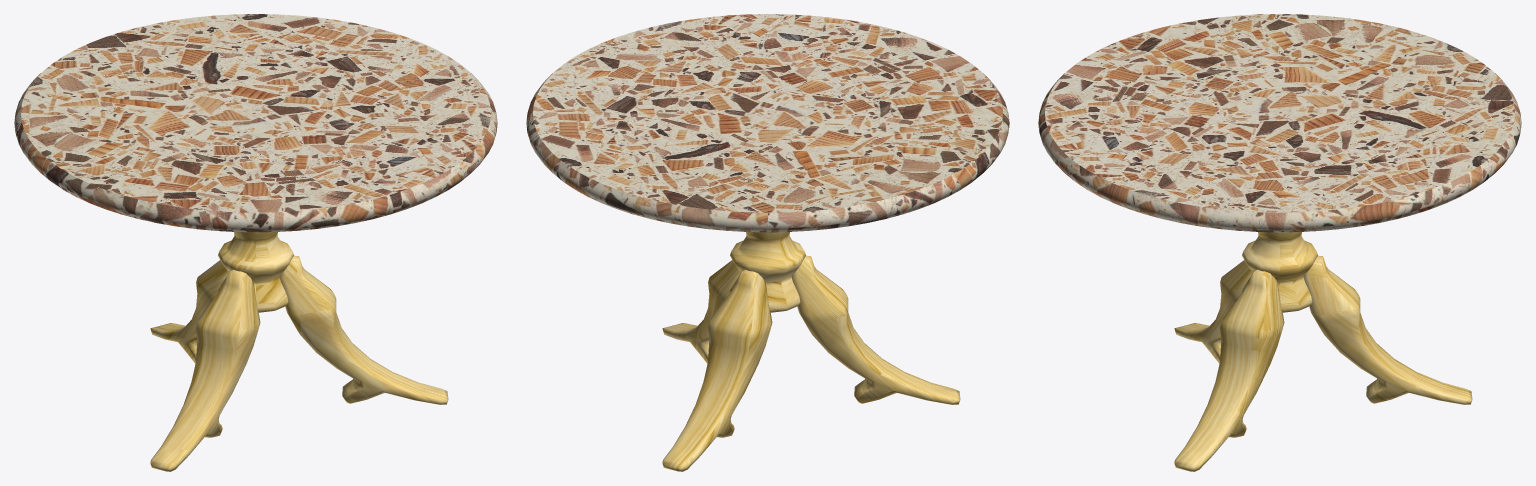
Rendered from wooden-coffe-table.gltf.
The picture shows the model from 3 angles, left to right: view 1: azimuth 30°, elevation 25°; view 2: azimuth 150°, elevation 25°; view 3: azimuth 270°, elevation 25°; orthographic projection.
Parts seen in each view (by area): view 1: top, Null; view 2: top, Null; view 3: top, Null.
Boxes of the visible parts, x1,y1,x2,y2 form: top: (14,14,497,232); Null: (150,232,448,471); top: (526,14,1009,232); Null: (662,232,960,471); top: (1038,14,1521,232); Null: (1174,232,1472,471).
Size of the model in its own units: 14.1 by 9.25 by 14.1.
Materials: 2 (2 with a texture image).
